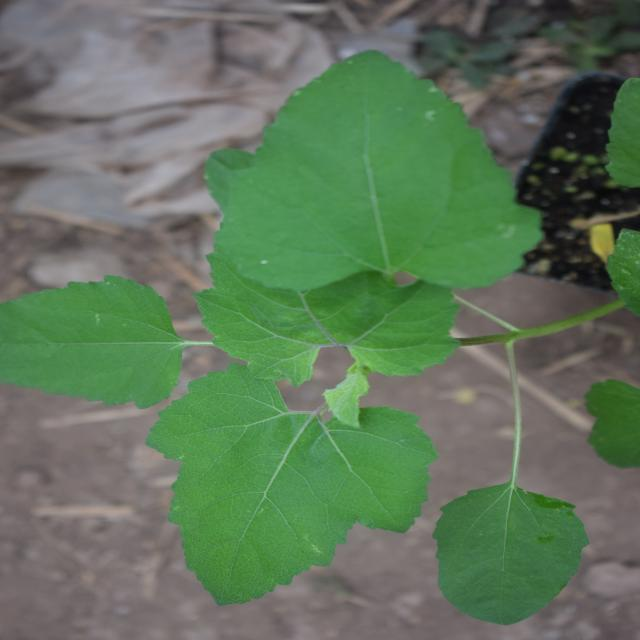cocklebur: (12, 2, 541, 520)
